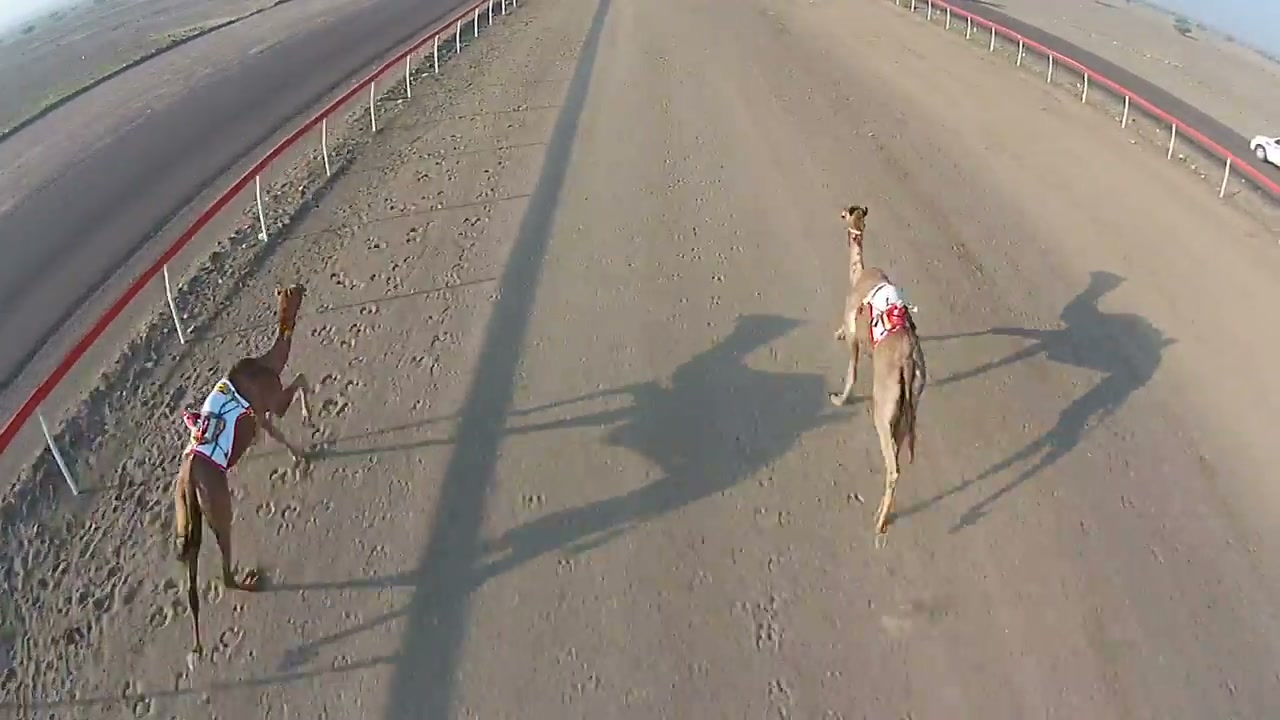animal_footprint: (55, 100, 442, 717)
